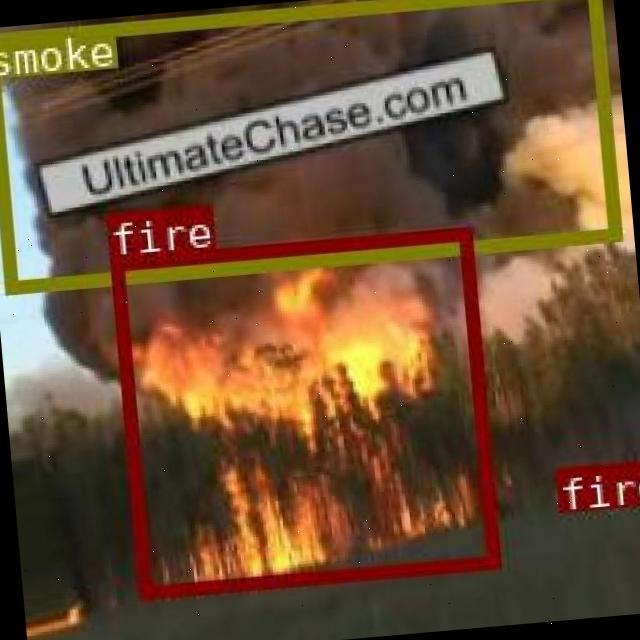fire: (108, 224, 496, 595), (552, 458, 634, 504)
smoke: (0, 0, 620, 291)
